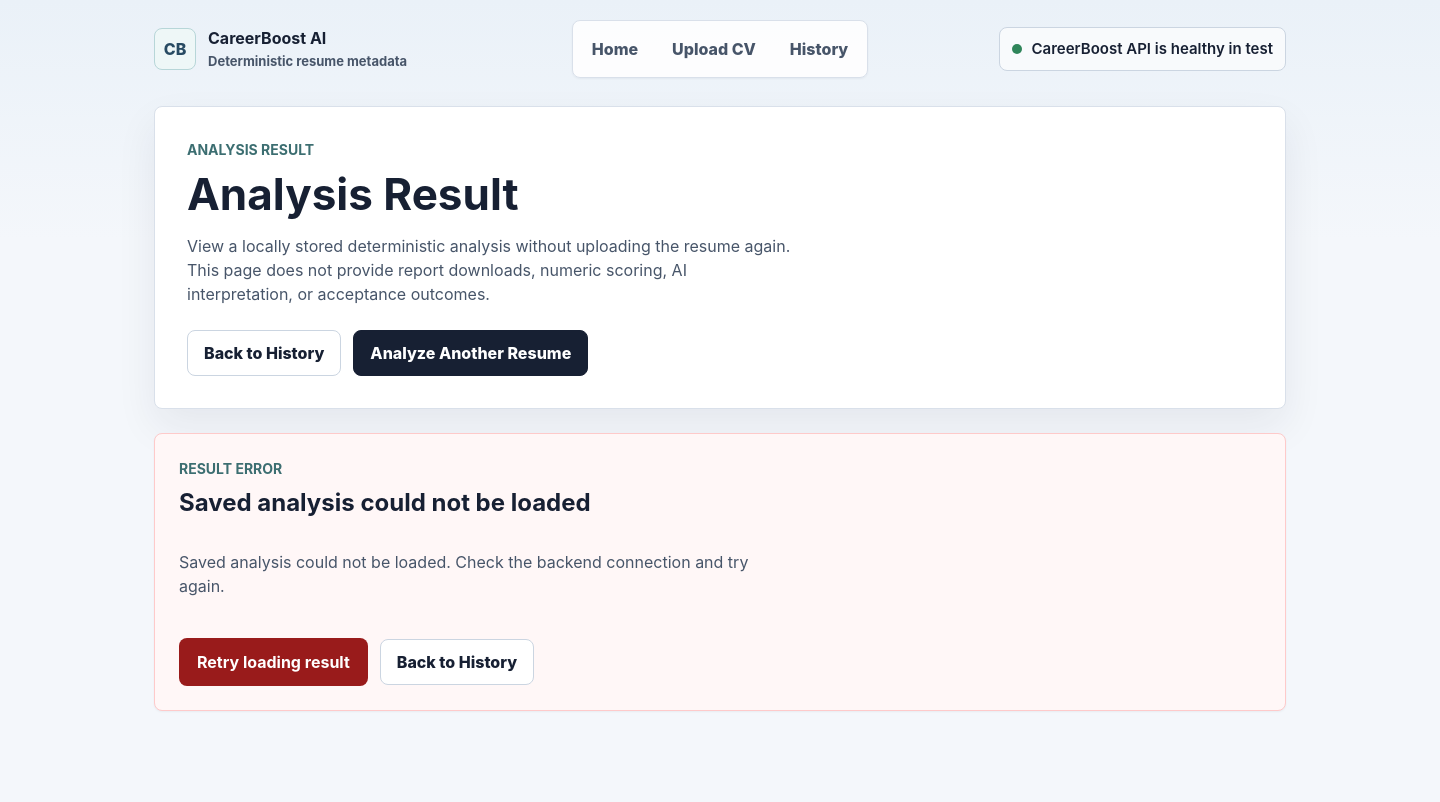
App › renders a safe result error state and retries loading the saved analysis
This screenshot has width=1440, height=802.
Check: the message shows "Saved analysis could not be loaded. Check the backend connection and try again.", box [179, 552, 748, 596]
Click the button "Retry loading result".
click(273, 662)  # box [179, 638, 368, 686]
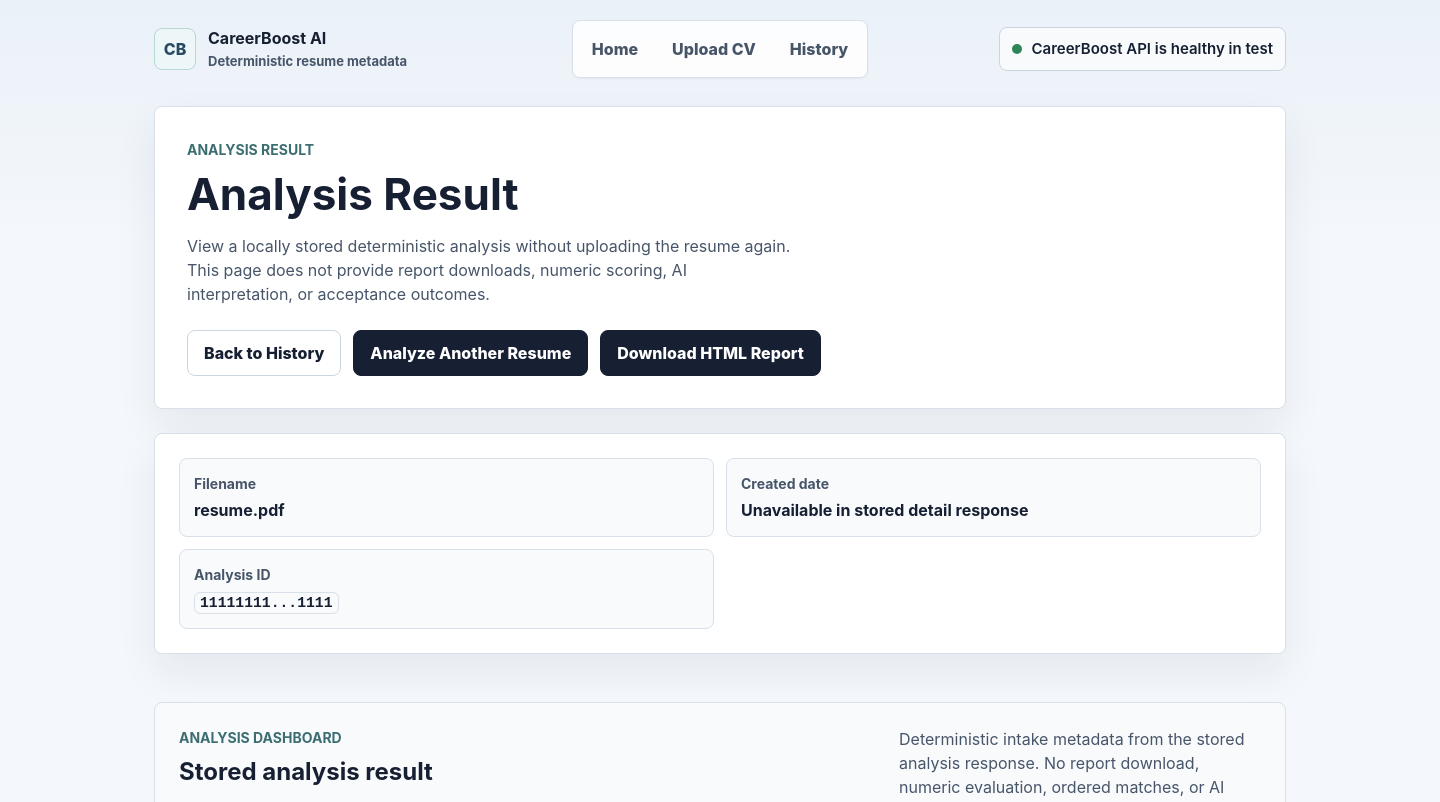
Check: the heading "Stored analysis result" is shown, box [179, 758, 433, 786]
